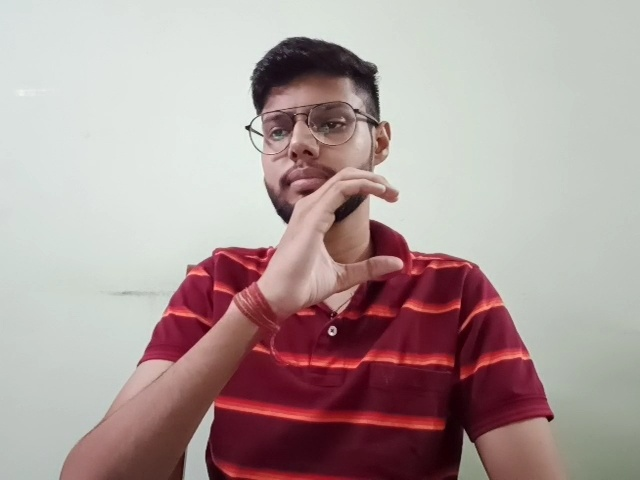C: (262, 167, 403, 319)
